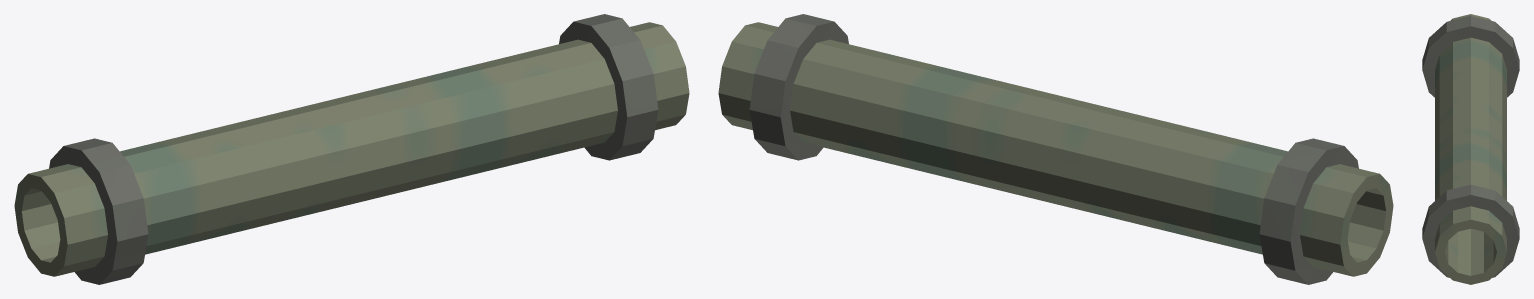
The model's file is WarrensC_PWC05_PipeStraight_Mars_SM.fbx.
3 renders of one model, left to right at view 1: azimuth 30°, elevation 25°; view 2: azimuth 150°, elevation 25°; view 3: azimuth 270°, elevation 25°, orthographic. The views are drawn at different scales.
Parts seen in each view (by area): view 1: WarrensC_PWC05_PipeStraight_Mars_SM.001; view 2: WarrensC_PWC05_PipeStraight_Mars_SM.001; view 3: WarrensC_PWC05_PipeStraight_Mars_SM.001.
Part boxes in pixels (x1,y1,x2,y2): WarrensC_PWC05_PipeStraight_Mars_SM.001: (14, 14, 689, 284); WarrensC_PWC05_PipeStraight_Mars_SM.001: (718, 14, 1393, 284); WarrensC_PWC05_PipeStraight_Mars_SM.001: (1422, 14, 1519, 284).
Bounding box in the file's own units: 200 × 40 × 40.
